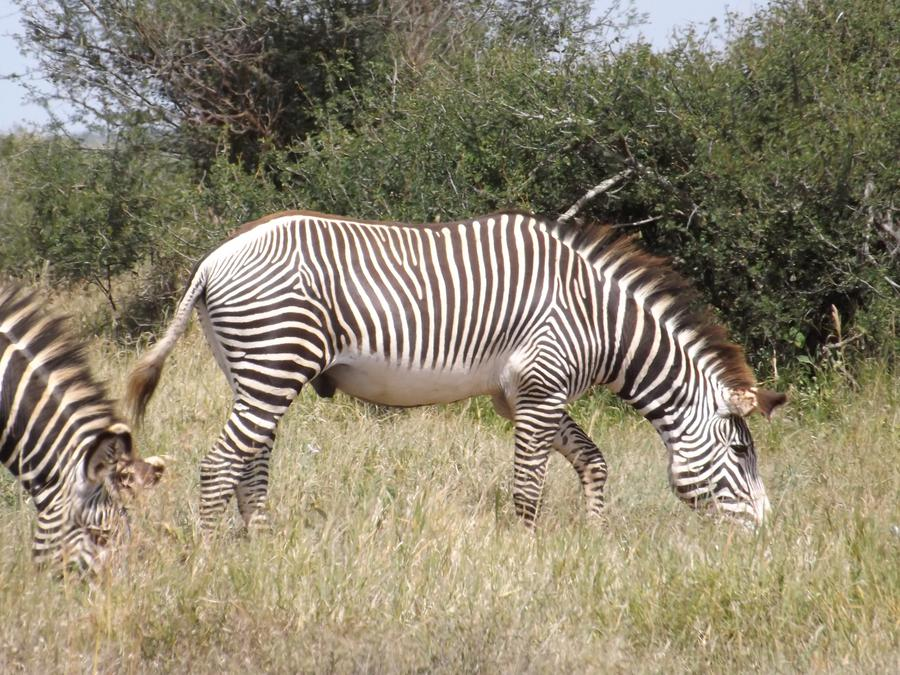zebra_grevys: (191, 215, 578, 398)
